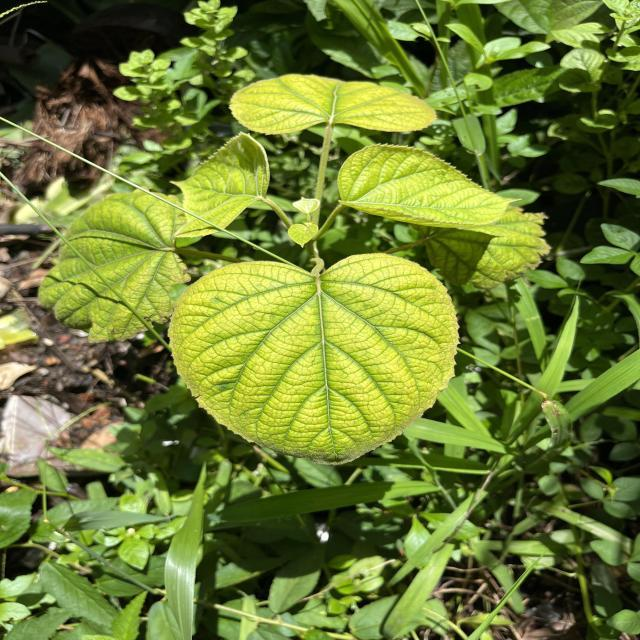Clerodendrum infortunatum: (165, 250, 464, 468), (38, 186, 193, 346), (336, 142, 524, 231), (227, 72, 440, 136), (170, 130, 272, 238)
